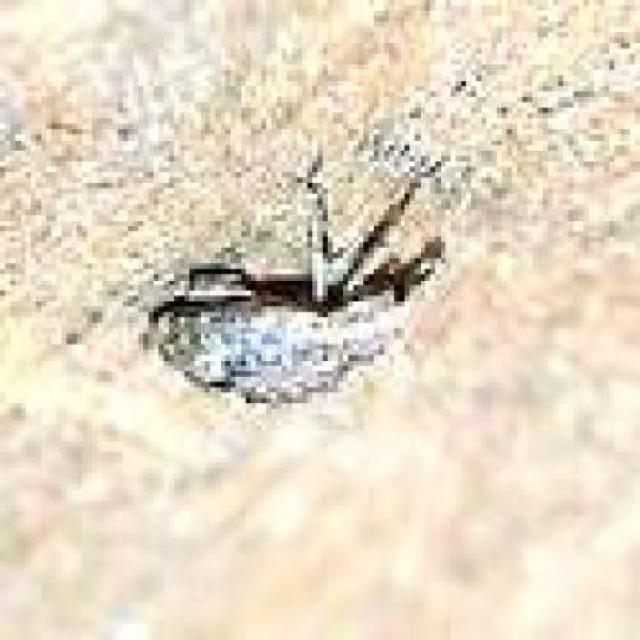rice-bug: (144, 173, 459, 421)
